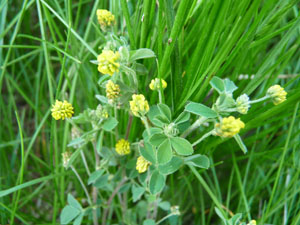clover: (40, 3, 296, 187)
